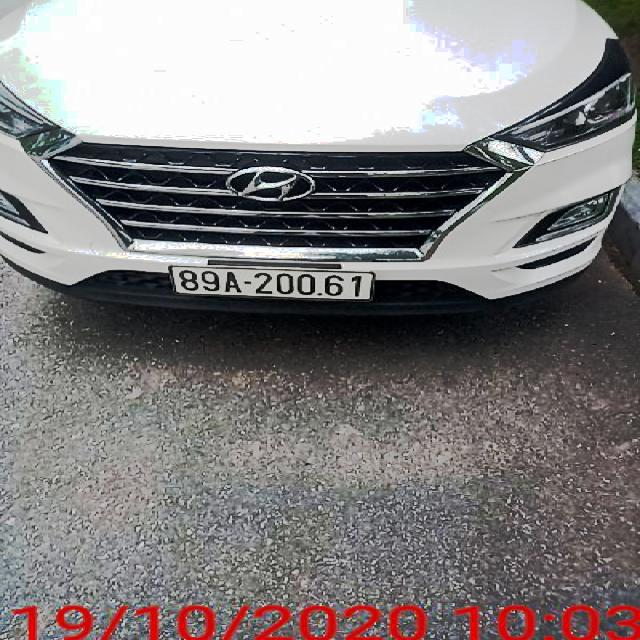license_plate: (175, 265, 377, 301)
